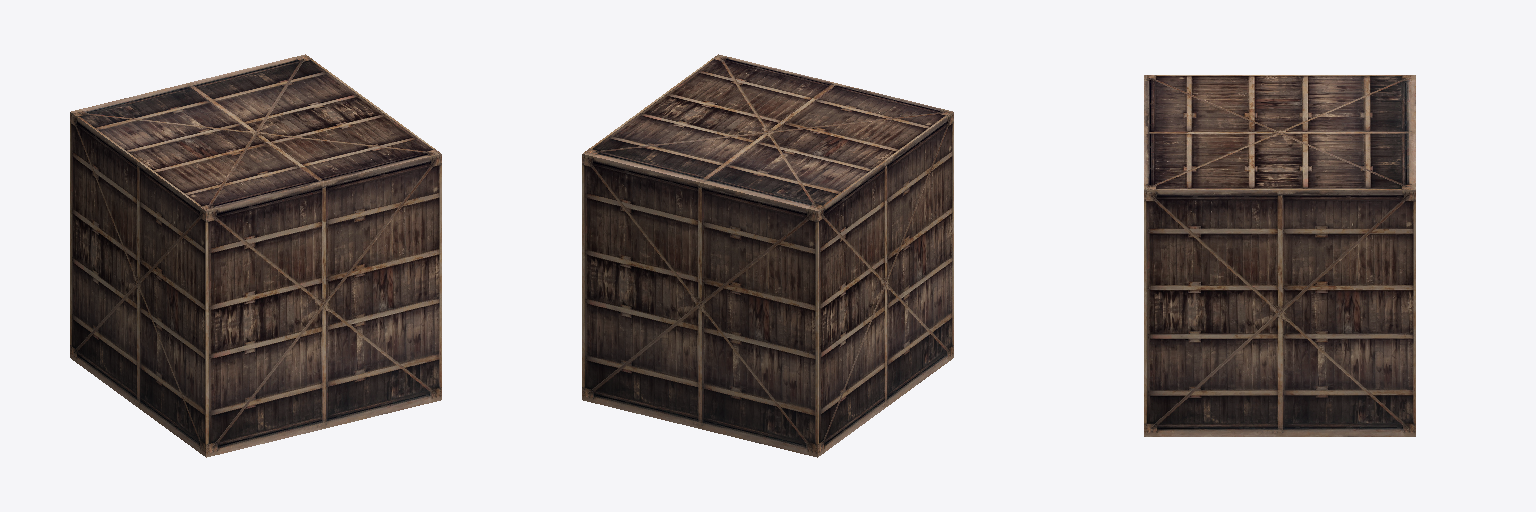
3 renders of one model, left to right at view 1: azimuth 30°, elevation 25°; view 2: azimuth 150°, elevation 25°; view 3: azimuth 270°, elevation 25°, orthographic.
Parts seen in each view (by area): view 1: Cube.001; view 2: Cube.001; view 3: Cube.001.
Boxes of the visible parts, x1,y1,x2,y2 form: Cube.001: [70, 54, 441, 457]; Cube.001: [582, 54, 953, 457]; Cube.001: [1144, 75, 1415, 436].
Size of the model in its own units: 0.6144 by 0.6144 by 0.6144.
1 materials, 1 textured.